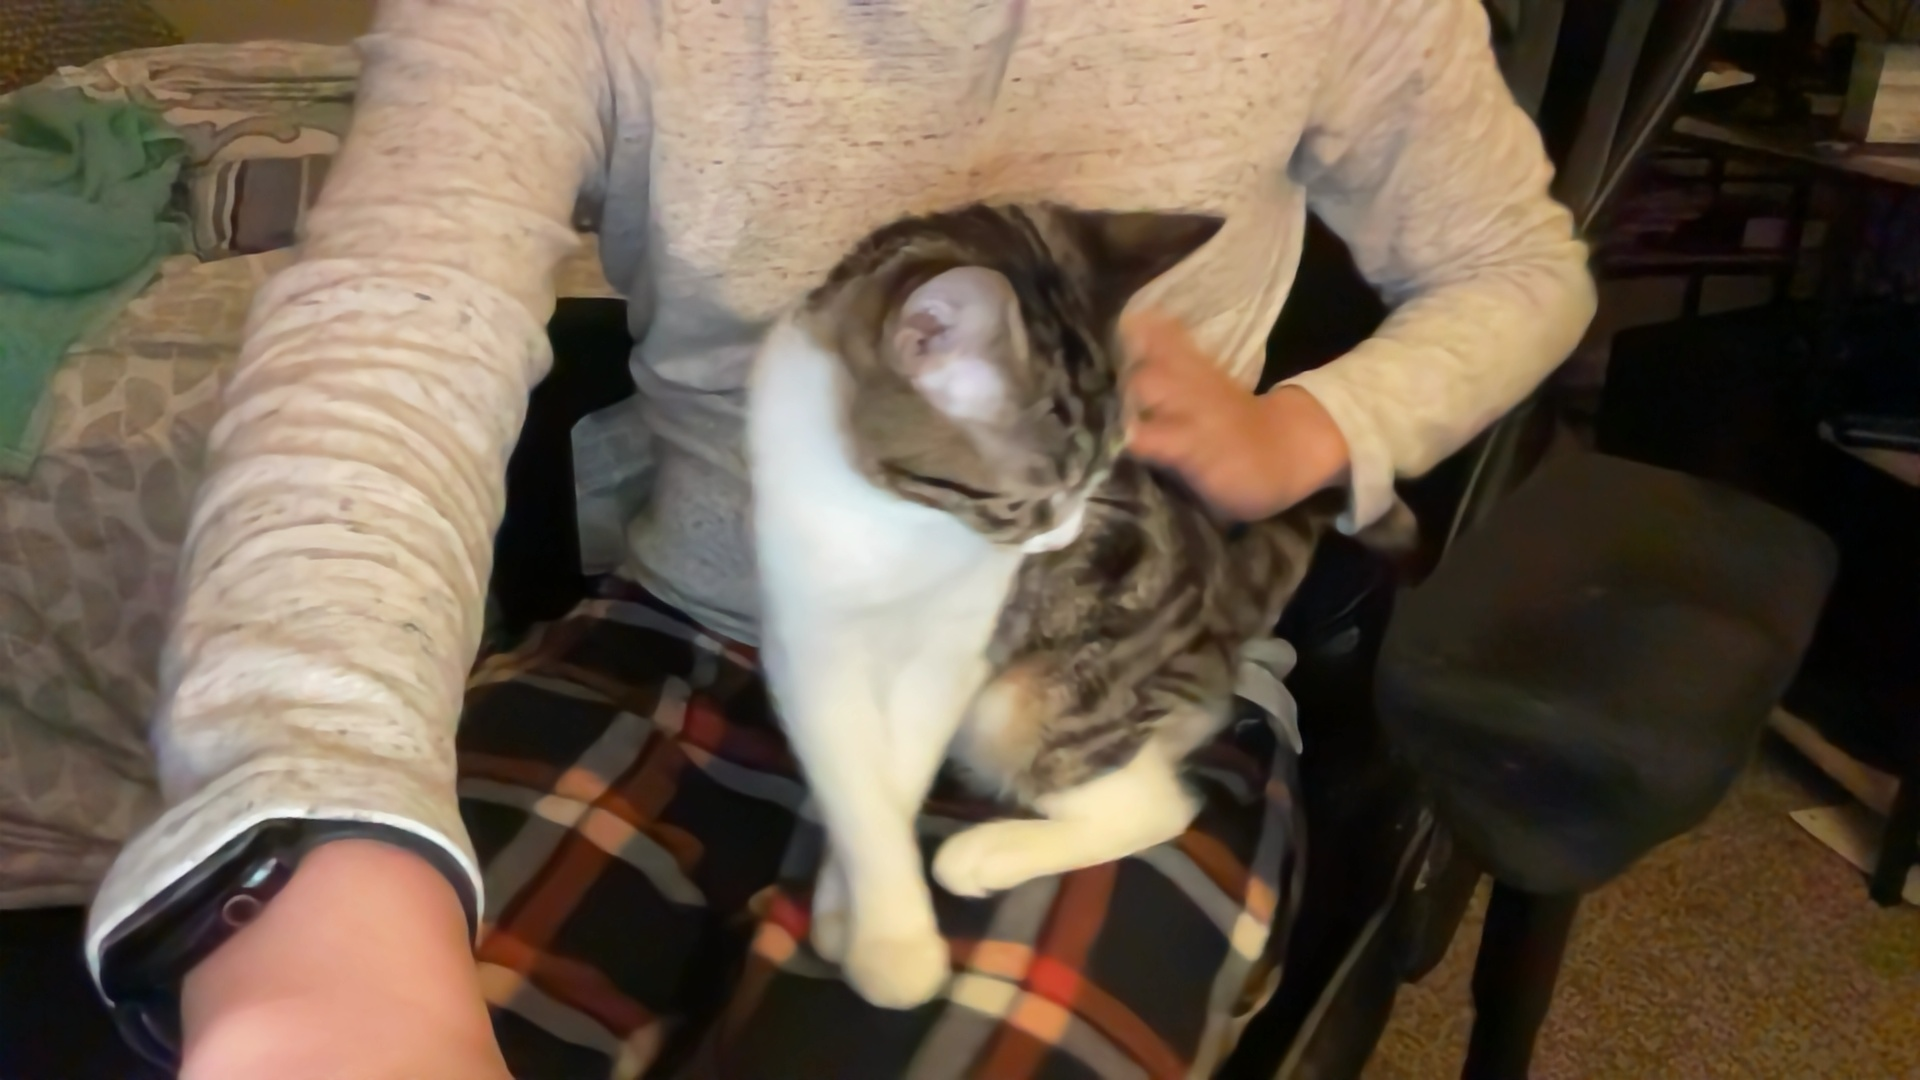cat: (731, 195, 1352, 1036)
